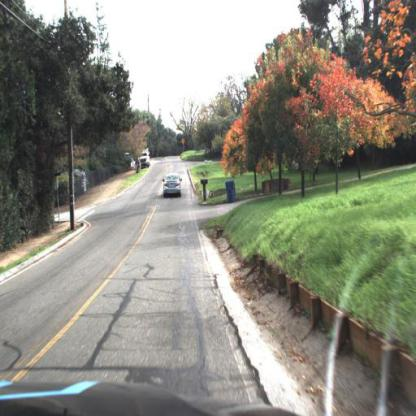car: (160, 169, 184, 202), (136, 147, 152, 171)
truck: (138, 151, 153, 168)
